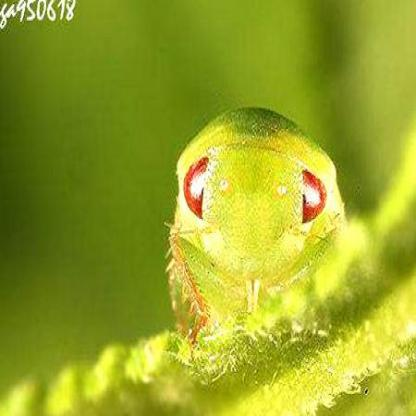green-leafhopper: (169, 104, 343, 340)
